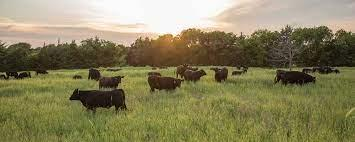cow: (68, 89, 126, 113), (147, 76, 183, 94), (278, 70, 316, 87), (99, 77, 124, 90), (186, 69, 207, 82), (213, 68, 228, 83)
